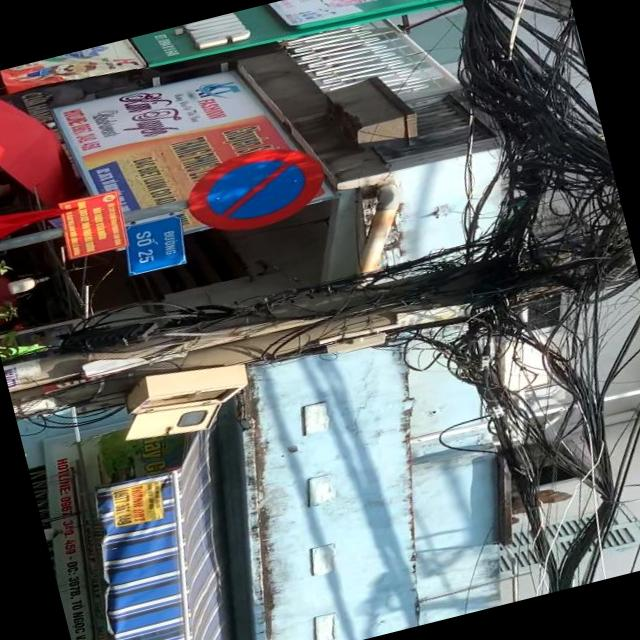P-131a: (178, 136, 332, 242)
